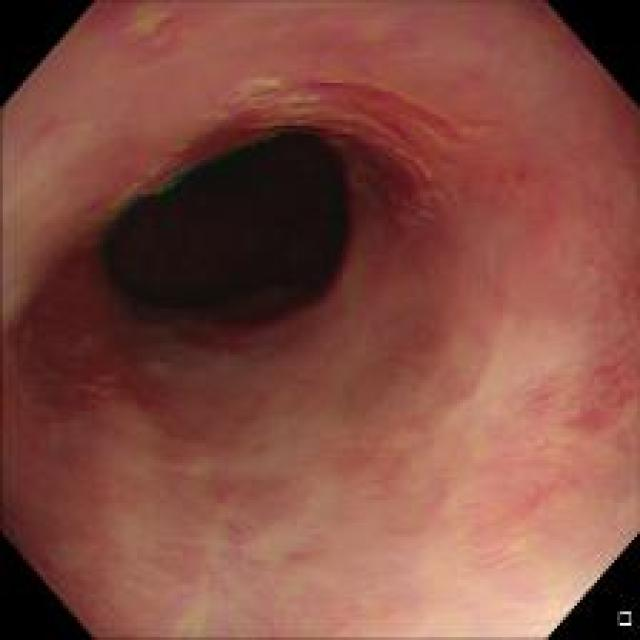blur: (170, 334, 618, 626), (90, 59, 489, 252)
color misalignment: (98, 70, 471, 245)
contrast: (82, 118, 356, 332)
